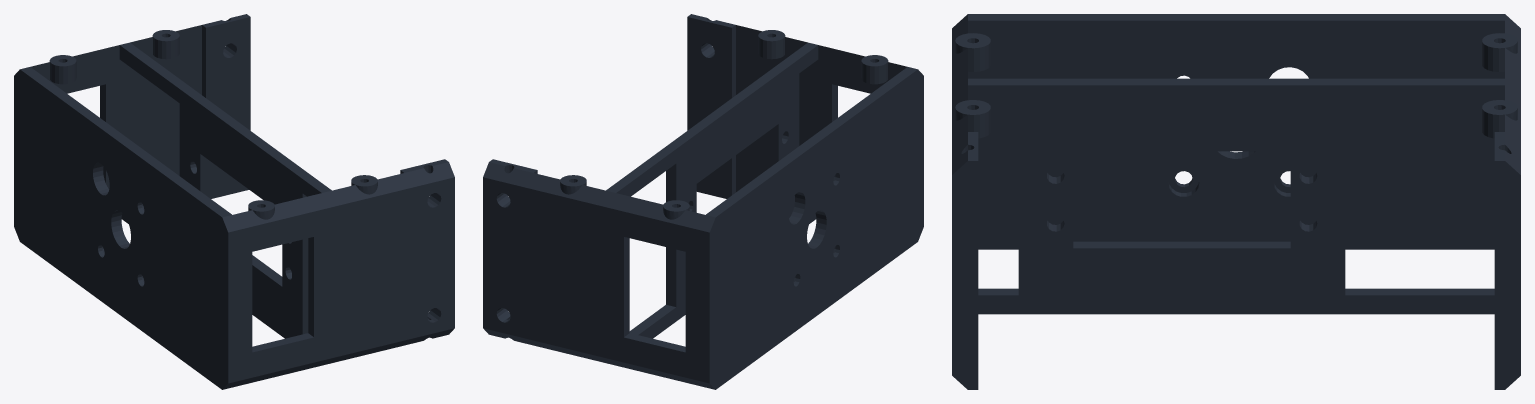
3 views of the same model, side by side, from view 1: azimuth 30°, elevation 25°; view 2: azimuth 150°, elevation 25°; view 3: azimuth 270°, elevation 25° (orthographic). The views are drawn at different scales.
Visible parts, largest first — view 1: part_001; view 2: part_001; view 3: part_001.
Boxes of the visible parts, <box> form: part_001: <box>14,14,454,389</box>; part_001: <box>483,14,923,389</box>; part_001: <box>952,14,1520,389</box>.
Bounding box in the file's own units: 0.066 × 0.108 × 0.048.
